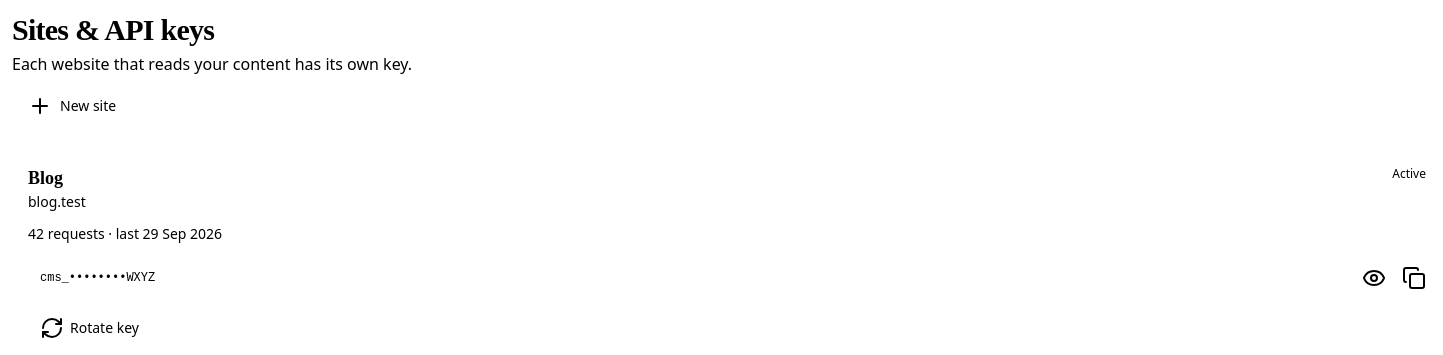
Test: SitesListPage › masks the key and reveals it on request
Expected: the text "cms_••••••••WXYZ" is shown, 40,271 -> 155,285
Expected: the text "42 requests · last 29 Sep 2026" is shown, 28,224 -> 222,243
Click the button named "Reveal API key" at (1374, 278), box 1356,260 -> 1392,296
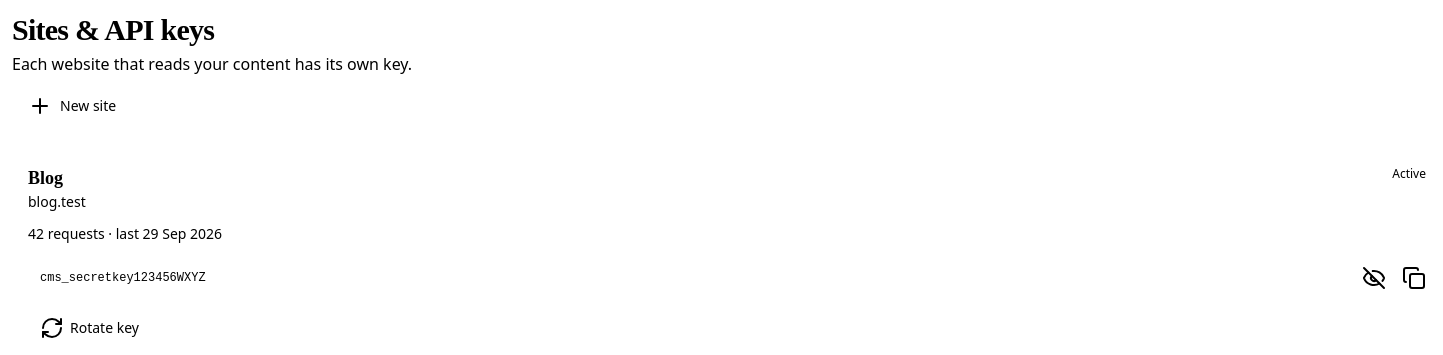
Expected: the text "cms_secretkey123456WXYZ" is shown, 40,271 -> 206,285
